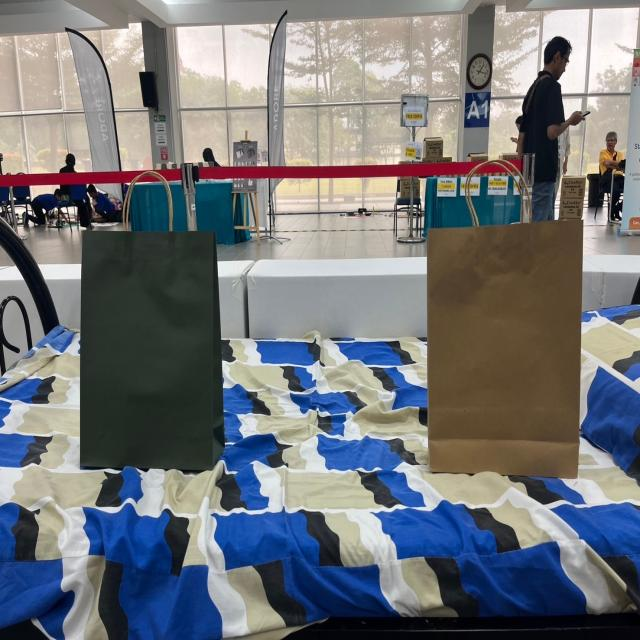bag: (431, 162, 576, 476), (90, 168, 210, 459)
